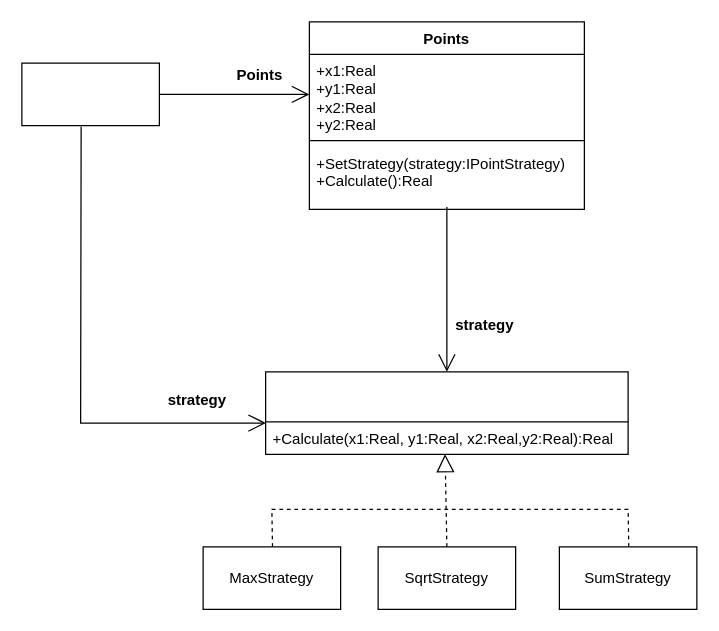
Image size: 719x631. Some labels were removed from this diagram. Here are the shapes that lost their labels. From the top down, the box of each, then its label:
(21, 62, 159, 126): Client
(264, 371, 628, 454): <<interface>> IPointStrategy
